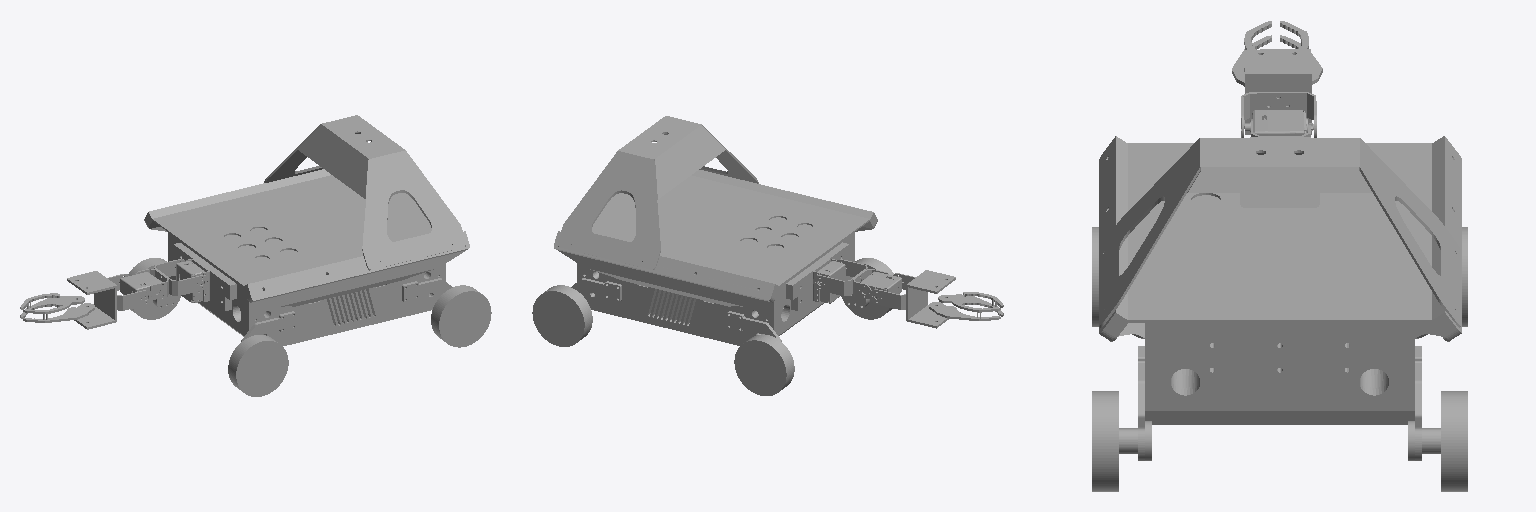
--- What the picture shows (computed from the rendered views, not written in the file) ---
3 views of the same robot in one strip: view 1: azimuth 30°, elevation 25°; view 2: azimuth 150°, elevation 25°; view 3: azimuth 270°, elevation 25° (orthographic).
Robot: v4 — 22 links, 21 joints (8 continuous, 13 fixed); root link base_link; default pose: every joint at zero.
Visible links, largest first — view 1: base_link, car_wheel_v2_1, car_wheel_v2__1__1, grap_base_v1_1, big_U_self_v2_1, grap2_v2_Mirror__1, car_wheel_v2__1___1__1, car_stand_v2__1___1___1__1, car_stand_v2_1, grap2_v2_1, big_U_self_v2__1__1, new_motor_v2__1__1 (+1 smaller); view 2: base_link, car_wheel_v2__1__2, car_wheel_v2__1___1__1, grap_base_v1_1, big_U_self_v2_1, grap2_v2_1, car_wheel_v2_1, car_stand_v2__1___1__1, car_stand_v2__1__1, big_U_self_v2__1__1, grap2_v2_Mirror__1, new_motor_v2__1__1 (+1 smaller); view 3: base_link, car_wheel_v2__1__1, car_wheel_v2__1__2, grap_base_v1_1, big_U_self_v2__1__1, new_motor_v2__1__1, car_stand_v2_1, car_stand_v2__1__1, grap2_v2_Mirror__1, car_wheel_v2_1, grap2_v2_1, car_wheel_v2__1___1__1.
Link boxes in pixels (bbox=[...]): base_link: bbox=[144, 115, 469, 345]; car_wheel_v2_1: bbox=[228, 335, 288, 396]; car_wheel_v2__1__1: bbox=[431, 285, 491, 347]; grap_base_v1_1: bbox=[67, 271, 116, 329]; big_U_self_v2_1: bbox=[154, 259, 208, 295]; grap2_v2_Mirror__1: bbox=[23, 301, 94, 322]; car_wheel_v2__1___1__1: bbox=[128, 258, 180, 319]; car_stand_v2__1___1___1__1: bbox=[241, 311, 295, 341]; car_stand_v2_1: bbox=[402, 278, 452, 301]; grap2_v2_1: bbox=[20, 293, 84, 318]; big_U_self_v2__1__1: bbox=[108, 274, 152, 310]; new_motor_v2__1__1: bbox=[120, 272, 162, 299]; base_link: bbox=[554, 116, 877, 345]; car_wheel_v2__1__2: bbox=[532, 285, 592, 346]; car_wheel_v2__1___1__1: bbox=[734, 334, 794, 395]; grap_base_v1_1: bbox=[906, 270, 955, 328]; big_U_self_v2_1: bbox=[813, 259, 867, 295]; grap2_v2_1: bbox=[929, 300, 1000, 320]; car_wheel_v2_1: bbox=[841, 258, 893, 319]; car_stand_v2__1___1__1: bbox=[727, 311, 781, 341]; car_stand_v2__1__1: bbox=[571, 278, 621, 301]; big_U_self_v2__1__1: bbox=[870, 273, 915, 309]; grap2_v2_Mirror__1: bbox=[938, 292, 1003, 316]; new_motor_v2__1__1: bbox=[860, 271, 901, 299]; base_link: bbox=[1099, 136, 1461, 424]; car_wheel_v2__1__1: bbox=[1092, 391, 1137, 491]; car_wheel_v2__1__2: bbox=[1422, 391, 1467, 491]; grap_base_v1_1: bbox=[1244, 49, 1311, 134]; big_U_self_v2__1__1: bbox=[1241, 92, 1316, 137]; new_motor_v2__1__1: bbox=[1245, 110, 1313, 135]; car_stand_v2_1: bbox=[1138, 346, 1144, 460]; car_stand_v2__1__1: bbox=[1415, 346, 1421, 460]; grap2_v2_Mirror__1: bbox=[1232, 21, 1271, 86]; car_wheel_v2_1: bbox=[1092, 227, 1098, 326]; grap2_v2_1: bbox=[1280, 21, 1322, 84]; car_wheel_v2__1___1__1: bbox=[1462, 227, 1467, 326].
Bounding box of the posed robot: 0.5881 × 0.2792 × 0.2434 m (x, y, z).
22 mesh visuals loaded from 22 distinct referenced files (22 binary STL).

URDF robot description (v4):
<?xml version="1.0" ?>
<!--===================================================================================-->
<!-- Autogenerated from v4.xacro -->
<!-- EDITING THIS FILE BY HAND IS NOT RECOMMENDED -->
<!--===================================================================================-->
<robot name="v4" xmlns:xacro="http://www.ros.org/wiki/xacro">
  <material name="silver">
    <color rgba="0.700 0.700 0.700 1.000"/>
  </material>
  <transmission name="Revolute 19_tran">
    <type>transmission_interface/SimpleTransmission</type>
    <joint name="Revolute 19">
      <hardwareInterface>hardware_interface/EffortJointInterface</hardwareInterface>
    </joint>
    <actuator name="Revolute 19_actr">
      <hardwareInterface>hardware_interface/EffortJointInterface</hardwareInterface>
      <mechanicalReduction>1</mechanicalReduction>
    </actuator>
  </transmission>
  <transmission name="Revolute 20_tran">
    <type>transmission_interface/SimpleTransmission</type>
    <joint name="Revolute 20">
      <hardwareInterface>hardware_interface/EffortJointInterface</hardwareInterface>
    </joint>
    <actuator name="Revolute 20_actr">
      <hardwareInterface>hardware_interface/EffortJointInterface</hardwareInterface>
      <mechanicalReduction>1</mechanicalReduction>
    </actuator>
  </transmission>
  <transmission name="Revolute 21_tran">
    <type>transmission_interface/SimpleTransmission</type>
    <joint name="Revolute 21">
      <hardwareInterface>hardware_interface/EffortJointInterface</hardwareInterface>
    </joint>
    <actuator name="Revolute 21_actr">
      <hardwareInterface>hardware_interface/EffortJointInterface</hardwareInterface>
      <mechanicalReduction>1</mechanicalReduction>
    </actuator>
  </transmission>
  <transmission name="Revolute 24_tran">
    <type>transmission_interface/SimpleTransmission</type>
    <joint name="Revolute 24">
      <hardwareInterface>hardware_interface/EffortJointInterface</hardwareInterface>
    </joint>
    <actuator name="Revolute 24_actr">
      <hardwareInterface>hardware_interface/EffortJointInterface</hardwareInterface>
      <mechanicalReduction>1</mechanicalReduction>
    </actuator>
  </transmission>
  <transmission name="Revolute 27_tran">
    <type>transmission_interface/SimpleTransmission</type>
    <joint name="Revolute 27">
      <hardwareInterface>hardware_interface/EffortJointInterface</hardwareInterface>
    </joint>
    <actuator name="Revolute 27_actr">
      <hardwareInterface>hardware_interface/EffortJointInterface</hardwareInterface>
      <mechanicalReduction>1</mechanicalReduction>
    </actuator>
  </transmission>
  <transmission name="Revolute 30_tran">
    <type>transmission_interface/SimpleTransmission</type>
    <joint name="Revolute 30">
      <hardwareInterface>hardware_interface/EffortJointInterface</hardwareInterface>
    </joint>
    <actuator name="Revolute 30_actr">
      <hardwareInterface>hardware_interface/EffortJointInterface</hardwareInterface>
      <mechanicalReduction>1</mechanicalReduction>
    </actuator>
  </transmission>
  <transmission name="Revolute 36_tran">
    <type>transmission_interface/SimpleTransmission</type>
    <joint name="Revolute 36">
      <hardwareInterface>hardware_interface/EffortJointInterface</hardwareInterface>
    </joint>
    <actuator name="Revolute 36_actr">
      <hardwareInterface>hardware_interface/EffortJointInterface</hardwareInterface>
      <mechanicalReduction>1</mechanicalReduction>
    </actuator>
  </transmission>
  <transmission name="Revolute 37_tran">
    <type>transmission_interface/SimpleTransmission</type>
    <joint name="Revolute 37">
      <hardwareInterface>hardware_interface/EffortJointInterface</hardwareInterface>
    </joint>
    <actuator name="Revolute 37_actr">
      <hardwareInterface>hardware_interface/EffortJointInterface</hardwareInterface>
      <mechanicalReduction>1</mechanicalReduction>
    </actuator>
  </transmission>
  <gazebo>
    <plugin filename="libgazebo_ros_control.so" name="control"/>
  </gazebo>
  <gazebo reference="base_link">
    <material>Gazebo/Silver</material>
    <mu1>0.2</mu1>
    <mu2>0.2</mu2>
    <selfCollide>true</selfCollide>
    <gravity>true</gravity>
  </gazebo>
  <gazebo reference="car_stand_v2_1">
    <material>Gazebo/Silver</material>
    <mu1>0.2</mu1>
    <mu2>0.2</mu2>
    <selfCollide>true</selfCollide>
  </gazebo>
  <gazebo reference="car_stand_v2__1__1">
    <material>Gazebo/Silver</material>
    <mu1>0.2</mu1>
    <mu2>0.2</mu2>
    <selfCollide>true</selfCollide>
  </gazebo>
  <gazebo reference="car_stand_v2__1___1___1__1">
    <material>Gazebo/Silver</material>
    <mu1>0.2</mu1>
    <mu2>0.2</mu2>
    <selfCollide>true</selfCollide>
  </gazebo>
  <gazebo reference="car_stand_2_v2_v1_1">
    <material>Gazebo/Silver</material>
    <mu1>0.2</mu1>
    <mu2>0.2</mu2>
    <selfCollide>true</selfCollide>
  </gazebo>
  <gazebo reference="car_stand_2_v2_v1__1__1">
    <material>Gazebo/Silver</material>
    <mu1>0.2</mu1>
    <mu2>0.2</mu2>
    <selfCollide>true</selfCollide>
  </gazebo>
  <gazebo reference="car_stand_2_v2_v1_2">
    <material>Gazebo/Silver</material>
    <mu1>0.2</mu1>
    <mu2>0.2</mu2>
    <selfCollide>true</selfCollide>
  </gazebo>
  <gazebo reference="car_wheel_v2_1">
    <material>Gazebo/Silver</material>
    <mu1>0.2</mu1>
    <mu2>0.2</mu2>
    <selfCollide>true</selfCollide>
  </gazebo>
  <gazebo reference="car_wheel_v2__1__1">
    <material>Gazebo/Silver</material>
    <mu1>0.2</mu1>
    <mu2>0.2</mu2>
    <selfCollide>true</selfCollide>
  </gazebo>
  <gazebo reference="car_wheel_v2__1__2">
    <material>Gazebo/Silver</material>
    <mu1>0.2</mu1>
    <mu2>0.2</mu2>
    <selfCollide>true</selfCollide>
  </gazebo>
  <gazebo reference="car_stand_v2__1___1__1">
    <material>Gazebo/Silver</material>
    <mu1>0.2</mu1>
    <mu2>0.2</mu2>
    <selfCollide>true</selfCollide>
  </gazebo>
  <gazebo reference="car_stand_2_v2_v1_4">
    <material>Gazebo/Silver</material>
    <mu1>0.2</mu1>
    <mu2>0.2</mu2>
    <selfCollide>true</selfCollide>
  </gazebo>
  <gazebo reference="car_wheel_v2__1___1__1">
    <material>Gazebo/Silver</material>
    <mu1>0.2</mu1>
    <mu2>0.2</mu2>
    <selfCollide>true</selfCollide>
  </gazebo>
  <gazebo reference="Side_U_Bracket_Component1_v2__1__1">
    <material>Gazebo/Silver</material>
    <mu1>0.2</mu1>
    <mu2>0.2</mu2>
    <selfCollide>true</selfCollide>
  </gazebo>
  <gazebo reference="new_motor_v2_1">
    <material>Gazebo/Silver</material>
    <mu1>0.2</mu1>
    <mu2>0.2</mu2>
    <selfCollide>true</selfCollide>
  </gazebo>
  <gazebo reference="big_U_self_v2_1">
    <material>Gazebo/Silver</material>
    <mu1>0.2</mu1>
    <mu2>0.2</mu2>
    <selfCollide>true</selfCollide>
  </gazebo>
  <gazebo reference="small_U_self_v3_v2_1">
    <material>Gazebo/Silver</material>
    <mu1>0.2</mu1>
    <mu2>0.2</mu2>
    <selfCollide>true</selfCollide>
  </gazebo>
  <gazebo reference="new_motor_v2__1__1">
    <material>Gazebo/Silver</material>
    <mu1>0.2</mu1>
    <mu2>0.2</mu2>
    <selfCollide>true</selfCollide>
  </gazebo>
  <gazebo reference="big_U_self_v2__1__1">
    <material>Gazebo/Silver</material>
    <mu1>0.2</mu1>
    <mu2>0.2</mu2>
    <selfCollide>true</selfCollide>
  </gazebo>
  <gazebo reference="grap_base_v1_1">
    <material>Gazebo/Silver</material>
    <mu1>0.2</mu1>
    <mu2>0.2</mu2>
    <selfCollide>true</selfCollide>
  </gazebo>
  <gazebo reference="grap2_v2_1">
    <material>Gazebo/Silver</material>
    <mu1>0.2</mu1>
    <mu2>0.2</mu2>
    <selfCollide>true</selfCollide>
  </gazebo>
  <gazebo reference="grap2_v2_Mirror__1">
    <material>Gazebo/Silver</material>
    <mu1>0.2</mu1>
    <mu2>0.2</mu2>
    <selfCollide>true</selfCollide>
  </gazebo>
  <link name="base_link">
    <inertial>
      <origin rpy="0 0 0" xyz="-0.03490559353136172 -0.0012908226787900414 0.05486728773240156"/>
      <mass value="40.856985871889826"/>
      <inertia ixx="0.201326" ixy="4.1e-05" ixz="-0.004755" iyy="0.334677" iyz="-0.00022" izz="0.444812"/>
    </inertial>
    <visual>
      <origin rpy="0 0 0" xyz="0 0 0"/>
      <geometry>
        <mesh filename="package://v4_description/meshes/base_link.stl" scale="0.001 0.001 0.001"/>
      </geometry>
      <material name="silver"/>
    </visual>
    <collision>
      <origin rpy="0 0 0" xyz="0 0 0"/>
      <geometry>
        <mesh filename="package://v4_description/meshes/base_link.stl" scale="0.001 0.001 0.001"/>
      </geometry>
    </collision>
  </link>
  <link name="car_stand_v2_1">
    <inertial>
      <origin rpy="0 0 0" xyz="0.03988993252380594 -0.0025004360304179962 -0.01795344297744809"/>
      <mass value="0.06574803361092448"/>
      <inertia ixx="1.6e-05" ixy="0.0" ixz="1.6e-05" iyy="5.4e-05" iyz="0.0" izz="3.7e-05"/>
    </inertial>
    <visual>
      <origin rpy="0 0 0" xyz="-0.044648 0.101416 -0.040924"/>
      <geometry>
        <mesh filename="package://v4_description/meshes/car_stand_v2_1.stl" scale="0.001 0.001 0.001"/>
      </geometry>
      <material name="silver"/>
    </visual>
    <collision>
      <origin rpy="0 0 0" xyz="-0.044648 0.101416 -0.040924"/>
      <geometry>
        <mesh filename="package://v4_description/meshes/car_stand_v2_1.stl" scale="0.001 0.001 0.001"/>
      </geometry>
    </collision>
  </link>
  <link name="car_stand_v2__1__1">
    <inertial>
      <origin rpy="0 0 0" xyz="0.03988993252381052 0.00249956396958205 -0.017953442977448077"/>
      <mass value="0.06574803361092448"/>
      <inertia ixx="1.6e-05" ixy="0.0" ixz="1.6e-05" iyy="5.4e-05" iyz="0.0" izz="3.7e-05"/>
    </inertial>
    <visual>
      <origin rpy="0 0 0" xyz="-0.044648 -0.098584 -0.040924"/>
      <geometry>
        <mesh filename="package://v4_description/meshes/car_stand_v2__1__1.stl" scale="0.001 0.001 0.001"/>
      </geometry>
      <material name="silver"/>
    </visual>
    <collision>
      <origin rpy="0 0 0" xyz="-0.044648 -0.098584 -0.040924"/>
      <geometry>
        <mesh filename="package://v4_description/meshes/car_stand_v2__1__1.stl" scale="0.001 0.001 0.001"/>
      </geometry>
    </collision>
  </link>
  <link name="car_stand_v2__1___1___1__1">
    <inertial>
      <origin rpy="0 0 0" xyz="-0.03989044739074814 -0.002500436030408615 -0.017953442977451526"/>
      <mass value="0.06574803361092448"/>
      <inertia ixx="1.6e-05" ixy="0.0" ixz="-1.6e-05" iyy="5.4e-05" iyz="0.0" izz="3.7e-05"/>
    </inertial>
    <visual>
      <origin rpy="0 0 0" xyz="0.11402 0.101416 -0.040924"/>
      <geometry>
        <mesh filename="package://v4_description/meshes/car_stand_v2__1___1___1__1.stl" scale="0.001 0.001 0.001"/>
      </geometry>
      <material name="silver"/>
    </visual>
    <collision>
      <origin rpy="0 0 0" xyz="0.11402 0.101416 -0.040924"/>
      <geometry>
        <mesh filename="package://v4_description/meshes/car_stand_v2__1___1___1__1.stl" scale="0.001 0.001 0.001"/>
      </geometry>
    </collision>
  </link>
  <link name="car_stand_2_v2_v1_1">
    <inertial>
      <origin rpy="0 0 0" xyz="0.008838668542350672 0.0024995639695819527 -0.008839293755308316"/>
      <mass value="0.025649195499023388"/>
      <inertia ixx="1e-06" ixy="0.0" ixz="0.0" iyy="3e-06" iyz="0.0" izz="1e-06"/>
    </inertial>
    <visual>
      <origin rpy="0 0 0" xyz="-0.100582 0.101416 -0.005915"/>
      <geometry>
        <mesh filename="package://v4_description/meshes/car_stand_2_v2_v1_1.stl" scale="0.001 0.001 0.001"/>
      </geometry>
      <material name="silver"/>
    </visual>
    <collision>
      <origin rpy="0 0 0" xyz="-0.100582 0.101416 -0.005915"/>
      <geometry>
        <mesh filename="package://v4_description/meshes/car_stand_2_v2_v1_1.stl" scale="0.001 0.001 0.001"/>
      </geometry>
    </collision>
  </link>
  <link name="car_stand_2_v2_v1__1__1">
    <inertial>
      <origin rpy="0 0 0" xyz="-0.008839331457644747 -0.002500436030418024 -0.008839293755307998"/>
      <mass value="0.025649195499023388"/>
      <inertia ixx="1e-06" ixy="0.0" ixz="0.0" iyy="3e-06" iyz="0.0" izz="1e-06"/>
    </inertial>
    <visual>
      <origin rpy="0 0 0" xyz="-0.11826 -0.098584 -0.005915"/>
      <geometry>
        <mesh filename="package://v4_description/meshes/car_stand_2_v2_v1__1__1.stl" scale="0.001 0.001 0.001"/>
      </geometry>
      <material name="silver"/>
    </visual>
    <collision>
      <origin rpy="0 0 0" xyz="-0.11826 -0.098584 -0.005915"/>
      <geometry>
        <mesh filename="package://v4_description/meshes/car_stand_2_v2_v1__1__1.stl" scale="0.001 0.001 0.001"/>
      </geometry>
    </collision>
  </link>
  <link name="car_stand_2_v2_v1_2">
    <inertial>
      <origin rpy="0 0 0" xyz="0.0088388165906792 0.002499563969585103 -0.008839293755313506"/>
      <mass value="0.025649195499023388"/>
      <inertia ixx="1e-06" ixy="-0.0" ixz="0.0" iyy="3e-06" iyz="0.0" izz="1e-06"/>
    </inertial>
    <visual>
      <origin rpy="0 0 0" xyz="0.187632 0.101416 -0.005915"/>
      <geometry>
        <mesh filename="package://v4_description/meshes/car_stand_2_v2_v1_2.stl" scale="0.001 0.001 0.001"/>
      </geometry>
      <material name="silver"/>
    </visual>
    <collision>
      <origin rpy="0 0 0" xyz="0.187632 0.101416 -0.005915"/>
      <geometry>
        <mesh filename="package://v4_description/meshes/car_stand_2_v2_v1_2.stl" scale="0.001 0.001 0.001"/>
      </geometry>
    </collision>
  </link>
  <link name="car_wheel_v2_1">
    <inertial>
      <origin rpy="0 0 0" xyz="-1.834093510677537e-07 -0.02381625276238626 -2.9375528741654514e-07"/>
      <mass value="0.7168827451003499"/>
      <inertia ixx="0.000271" ixy="-0.0" ixz="-0.0" iyy="0.000476" iyz="0.0" izz="0.000271"/>
    </inertial>
    <visual>
      <origin rpy="0 0 0" xyz="0.178793 0.106416 0.002924"/>
      <geometry>
        <mesh filename="package://v4_description/meshes/car_wheel_v2_1.stl" scale="0.001 0.001 0.001"/>
      </geometry>
      <material name="silver"/>
    </visual>
    <collision>
      <origin rpy="0 0 0" xyz="0.178793 0.106416 0.002924"/>
      <geometry>
        <mesh filename="package://v4_description/meshes/car_wheel_v2_1.stl" scale="0.001 0.001 0.001"/>
      </geometry>
    </collision>
  </link>
  <link name="car_wheel_v2__1__1">
    <inertial>
      <origin rpy="0 0 0" xyz="-3.314576812324388e-07 -0.02381625276238937 -2.9375528393148567e-07"/>
      <mass value="0.7168827451003499"/>
      <inertia ixx="0.000271" ixy="-0.0" ixz="-0.0" iyy="0.000476" iyz="0.0" izz="0.000271"/>
    </inertial>
    <visual>
      <origin rpy="0 0 0" xyz="-0.109421 0.106416 0.002924"/>
      <geometry>
        <mesh filename="package://v4_description/meshes/car_wheel_v2__1__1.stl" scale="0.001 0.001 0.001"/>
      </geometry>
      <material name="silver"/>
    </visual>
    <collision>
      <origin rpy="0 0 0" xyz="-0.109421 0.106416 0.002924"/>
      <geometry>
        <mesh filename="package://v4_description/meshes/car_wheel_v2__1__1.stl" scale="0.001 0.001 0.001"/>
      </geometry>
    </collision>
  </link>
  <link name="car_wheel_v2__1__2">
    <inertial>
      <origin rpy="0 0 0" xyz="-3.3145767672215776e-07 0.0238153807015533 -2.9375533295607215e-07"/>
      <mass value="0.7168827451003499"/>
      <inertia ixx="0.000271" ixy="0.0" ixz="0.0" iyy="0.000476" iyz="0.0" izz="0.000271"/>
    </inertial>
    <visual>
      <origin rpy="0 0 0" xyz="-0.109421 -0.103584 0.002924"/>
      <geometry>
        <mesh filename="package://v4_description/meshes/car_wheel_v2__1__2.stl" scale="0.001 0.001 0.001"/>
      </geometry>
      <material name="silver"/>
    </visual>
    <collision>
      <origin rpy="0 0 0" xyz="-0.109421 -0.103584 0.002924"/>
      <geometry>
        <mesh filename="package://v4_description/meshes/car_wheel_v2__1__2.stl" scale="0.001 0.001 0.001"/>
      </geometry>
    </collision>
  </link>
  <link name="car_stand_v2__1___1__1">
    <inertial>
      <origin rpy="0 0 0" xyz="-0.03989044739074339 0.0024995639695852695 -0.017953442977451568"/>
      <mass value="0.06574803361092448"/>
      <inertia ixx="1.6e-05" ixy="0.0" ixz="-1.6e-05" iyy="5.4e-05" iyz="-0.0" izz="3.7e-05"/>
    </inertial>
    <visual>
      <origin rpy="0 0 0" xyz="0.11402 -0.098584 -0.040924"/>
      <geometry>
        <mesh filename="package://v4_description/meshes/car_stand_v2__1___1__1.stl" scale="0.001 0.001 0.001"/>
      </geometry>
      <material name="silver"/>
    </visual>
    <collision>
      <origin rpy="0 0 0" xyz="0.11402 -0.098584 -0.040924"/>
      <geometry>
        <mesh filename="package://v4_description/meshes/car_stand_v2__1___1__1.stl" scale="0.001 0.001 0.001"/>
      </geometry>
    </collision>
  </link>
  <link name="car_stand_2_v2_v1_4">
    <inertial>
      <origin rpy="0 0 0" xyz="0.00883881659068353 -0.002500436030414721 -0.00883929375531351"/>
      <mass value="0.025649195499023388"/>
      <inertia ixx="1e-06" ixy="0.0" ixz="0.0" iyy="3e-06" iyz="0.0" izz="1e-06"/>
    </inertial>
    <visual>
      <origin rpy="0 0 0" xyz="0.187632 -0.098584 -0.005915"/>
      <geometry>
        <mesh filename="package://v4_description/meshes/car_stand_2_v2_v1_4.stl" scale="0.001 0.001 0.001"/>
      </geometry>
      <material name="silver"/>
    </visual>
    <collision>
      <origin rpy="0 0 0" xyz="0.187632 -0.098584 -0.005915"/>
      <geometry>
        <mesh filename="package://v4_description/meshes/car_stand_2_v2_v1_4.stl" scale="0.001 0.001 0.001"/>
      </geometry>
    </collision>
  </link>
  <link name="car_wheel_v2__1___1__1">
    <inertial>
      <origin rpy="0 0 0" xyz="-1.834093467378839e-07 0.02381538070155663 -2.937553364771271e-07"/>
      <mass value="0.7168827451003499"/>
      <inertia ixx="0.000271" ixy="0.0" ixz="0.0" iyy="0.000476" iyz="0.0" izz="0.000271"/>
    </inertial>
    <visual>
      <origin rpy="0 0 0" xyz="0.178793 -0.103584 0.002924"/>
      <geometry>
        <mesh filename="package://v4_description/meshes/car_wheel_v2__1___1__1.stl" scale="0.001 0.001 0.001"/>
      </geometry>
      <material name="silver"/>
    </visual>
    <collision>
      <origin rpy="0 0 0" xyz="0.178793 -0.103584 0.002924"/>
      <geometry>
        <mesh filename="package://v4_description/meshes/car_wheel_v2__1___1__1.stl" scale="0.001 0.001 0.001"/>
      </geometry>
    </collision>
  </link>
  <link name="Side_U_Bracket_Component1_v2__1__1">
    <inertial>
      <origin rpy="0 0 0" xyz="-0.002196396463554351 -4.360305858636289e-07 -8.453993113072267e-05"/>
      <mass value="0.02951040982880665"/>
      <inertia ixx="1.1e-05" ixy="0.0" ixz="-0.0" iyy="4e-06" iyz="-0.0" izz="7e-06"/>
    </inertial>
    <visual>
      <origin rpy="0 0 0" xyz="0.184696 0.001416 -0.063262"/>
      <geometry>
        <mesh filename="package://v4_description/meshes/Side_U_Bracket_Component1_v2__1__1.stl" scale="0.001 0.001 0.001"/>
      </geometry>
      <material name="silver"/>
    </visual>
    <collision>
      <origin rpy="0 0 0" xyz="0.184696 0.001416 -0.063262"/>
      <geometry>
        <mesh filename="package://v4_description/meshes/Side_U_Bracket_Component1_v2__1__1.stl" scale="0.001 0.001 0.001"/>
      </geometry>
    </collision>
  </link>
  <link name="new_motor_v2_1">
    <inertial>
      <origin rpy="0 0 0" xyz="-0.007452485743466214 -0.022427186385094992 0.017654066718774016"/>
      <mass value="0.20364393858439991"/>
      <inertia ixx="5.1e-05" ixy="-0.0" ixz="-0.0" iyy="3.5e-05" iyz="-0.0" izz="3e-05"/>
    </inertial>
    <visual>
      <origin rpy="0 0 0" xyz="0.192009 -0.018834 -0.045728"/>
      <geometry>
        <mesh filename="package://v4_description/meshes/new_motor_v2_1.stl" scale="0.001 0.001 0.001"/>
      </geometry>
      <material name="silver"/>
    </visual>
    <collision>
      <origin rpy="0 0 0" xyz="0.192009 -0.018834 -0.045728"/>
      <geometry>
        <mesh filename="package://v4_description/meshes/new_motor_v2_1.stl" scale="0.001 0.001 0.001"/>
      </geometry>
    </collision>
  </link>
  <link name="big_U_self_v2_1">
    <inertial>
      <origin rpy="0 0 0" xyz="-0.02423781962657942 -4.360255596357141e-07 -9.331276065296934e-06"/>
      <mass value="0.041847447766480916"/>
      <inertia ixx="2.4e-05" ixy="0.0" ixz="-0.0" iyy="1.1e-05" iyz="0.0" izz="3.2e-05"/>
    </inertial>
    <visual>
      <origin rpy="0 0 0" xyz="0.199519 0.000916 -0.073226"/>
      <geometry>
        <mesh filename="package://v4_description/meshes/big_U_self_v2_1.stl" scale="0.001 0.001 0.001"/>
      </geometry>
      <material name="silver"/>
    </visual>
    <collision>
      <origin rpy="0 0 0" xyz="0.199519 0.000916 -0.073226"/>
      <geometry>
        <mesh filename="package://v4_description/meshes/big_U_self_v2_1.stl" scale="0.001 0.001 0.001"/>
      </geometry>
    </collision>
  </link>
  <link name="small_U_self_v3_v2_1">
    <inertial>
      <origin rpy="0 0 0" xyz="-0.009287793098572444 -0.0005387943235771196 -3.591936350147429e-06"/>
      <mass value="0.025534175468152884"/>
      <inertia ixx="9e-06" ixy="-0.0" ixz="-0.0" iyy="3e-06" iyz="-0.0" izz="1e-05"/>
    </inertial>
    <visual>
      <origin rpy="0 0 0" xyz="0.239519 0.000916 -0.073211"/>
      <geometry>
        <mesh filename="package://v4_description/meshes/small_U_self_v3_v2_1.stl" scale="0.001 0.001 0.001"/>
      </geometry>
      <material name="silver"/>
    </visual>
    <collision>
      <origin rpy="0 0 0" xyz="0.239519 0.000916 -0.073211"/>
      <geometry>
        <mesh filename="package://v4_description/meshes/small_U_self_v3_v2_1.stl" scale="0.001 0.001 0.001"/>
      </geometry>
    </collision>
  </link>
  <link name="new_motor_v2__1__1">
    <inertial>
      <origin rpy="0 0 0" xyz="-0.01796902636035358 0.021971771959281163 -0.008360549860558564"/>
      <mass value="0.20364667946656756"/>
      <inertia ixx="3e-05" ixy="-0.0" ixz="-0.0" iyy="3.5e-05" iyz="-0.0" izz="5.1e-05"/>
    </inertial>
    <visual>
      <origin rpy="0 0 0" xyz="0.252022 0.021166 -0.080706"/>
      <geometry>
        <mesh filename="package://v4_description/meshes/new_motor_v2__1__1.stl" scale="0.001 0.001 0.001"/>
      </geometry>
      <material name="silver"/>
    </visual>
    <collision>
      <origin rpy="0 0 0" xyz="0.252022 0.021166 -0.080706"/>
      <geometry>
        <mesh filename="package://v4_description/meshes/new_motor_v2__1__1.stl" scale="0.001 0.001 0.001"/>
      </geometry>
    </collision>
  </link>
  <link name="big_U_self_v2__1__1">
    <inertial>
      <origin rpy="0 0 0" xyz="-0.024234621373399545 -0.0003468056978262182 -9.007546020775581e-06"/>
      <mass value="0.04184744776648061"/>
      <inertia ixx="2.4e-05" ixy="0.0" ixz="-0.0" iyy="1.1e-05" iyz="0.0" izz="3.2e-05"/>
    </inertial>
    <visual>
      <origin rpy="0 0 0" xyz="0.279796 0.002011 -0.072396"/>
      <geometry>
        <mesh filename="package://v4_description/meshes/big_U_self_v2__1__1.stl" scale="0.001 0.001 0.001"/>
      </geometry>
      <material name="silver"/>
    </visual>
    <collision>
      <origin rpy="0 0 0" xyz="0.279796 0.002011 -0.072396"/>
      <geometry>
        <mesh filename="package://v4_description/meshes/big_U_self_v2__1__1.stl" scale="0.001 0.001 0.001"/>
      </geometry>
    </collision>
  </link>
  <link name="grap_base_v1_1">
    <inertial>
      <origin rpy="0 0 0" xyz="-0.014566952255857912 -0.00020826804762141176 -5.219548716600686e-06"/>
      <mass value="0.15189124788812738"/>
      <inertia ixx="9.5e-05" ixy="0.0" ixz="0.0" iyy="9.3e-05" iyz="0.0" izz="6.1e-05"/>
    </inertial>
    <visual>
      <origin rpy="0 0 0" xyz="0.319792 0.002583 -0.072381"/>
      <geometry>
        <mesh filename="package://v4_description/meshes/grap_base_v1_1.stl" scale="0.001 0.001 0.001"/>
      </geometry>
      <material name="silver"/>
    </visual>
    <collision>
      <origin rpy="0 0 0" xyz="0.319792 0.002583 -0.072381"/>
      <geometry>
        <mesh filename="package://v4_description/meshes/grap_base_v1_1.stl" scale="0.001 0.001 0.001"/>
      </geometry>
    </collision>
  </link>
  <link name="grap2_v2_1">
    <inertial>
      <origin rpy="0 0 0" xyz="-0.03291400371766562 0.005117554961966184 0.0011004146243947382"/>
      <mass value="0.04062678364093081"/>
      <inertia ixx="3e-06" ixy="-0.0" ixz="2e-06" iyy="2.6e-05" iyz="0.0" izz="2.7e-05"/>
    </inertial>
    <visual>
      <origin rpy="0 0 0" xyz="0.355467 -0.009408 -0.072368"/>
      <geometry>
        <mesh filename="package://v4_description/meshes/grap2_v2_1.stl" scale="0.001 0.001 0.001"/>
      </geometry>
      <material name="silver"/>
    </visual>
    <collision>
      <origin rpy="0 0 0" xyz="0.355467 -0.009408 -0.072368"/>
      <geometry>
        <mesh filename="package://v4_description/meshes/grap2_v2_1.stl" scale="0.001 0.001 0.001"/>
      </geometry>
    </collision>
  </link>
  <link name="grap2_v2_Mirror__1">
    <inertial>
      <origin rpy="0 0 0" xyz="-0.032755044017192425 -0.006055892134894434 0.0011006057396234226"/>
      <mass value="0.04062678364093082"/>
      <inertia ixx="3e-06" ixy="-0.0" ixz="2e-06" iyy="2.6e-05" iyz="-0.0" izz="2.7e-05"/>
    </inertial>
    <visual>
      <origin rpy="0 0 0" xyz="0.355109 0.015589 -0.072368"/>
      <geometry>
        <mesh filename="package://v4_description/meshes/grap2_v2_Mirror__1.stl" scale="0.001 0.001 0.001"/>
      </geometry>
      <material name="silver"/>
    </visual>
    <collision>
      <origin rpy="0 0 0" xyz="0.355109 0.015589 -0.072368"/>
      <geometry>
        <mesh filename="package://v4_description/meshes/grap2_v2_Mirror__1.stl" scale="0.001 0.001 0.001"/>
      </geometry>
    </collision>
  </link>
  <joint name="Rigid 11" type="fixed">
    <origin rpy="0 0 0" xyz="0.044648 -0.101416 0.040924"/>
    <parent link="base_link"/>
    <child link="car_stand_v2_1"/>
  </joint>
  <joint name="Rigid 12" type="fixed">
    <origin rpy="0 0 0" xyz="0.044648 0.098584 0.040924"/>
    <parent link="base_link"/>
    <child link="car_stand_v2__1__1"/>
  </joint>
  <joint name="Rigid 14" type="fixed">
    <origin rpy="0 0 0" xyz="-0.11402 -0.101416 0.040924"/>
    <parent link="base_link"/>
    <child link="car_stand_v2__1___1___1__1"/>
  </joint>
  <joint name="Rigid 15" type="fixed">
    <origin rpy="0 0 0" xyz="0.055934 0.0 -0.035009"/>
    <parent link="car_stand_v2_1"/>
    <child link="car_stand_2_v2_v1_1"/>
  </joint>
  <joint name="Rigid 16" type="fixed">
    <origin rpy="0 0 0" xyz="0.073612 0.0 -0.035009"/>
    <parent link="car_stand_v2__1__1"/>
    <child link="car_stand_2_v2_v1__1__1"/>
  </joint>
  <joint name="Rigid 17" type="fixed">
    <origin rpy="0 0 0" xyz="-0.073612 0.0 -0.035009"/>
    <parent link="car_stand_v2__1___1___1__1"/>
    <child link="car_stand_2_v2_v1_2"/>
  </joint>
  <joint name="Revolute 19" type="continuous">
    <origin rpy="0 0 0" xyz="-0.064773 -0.005 -0.043848"/>
    <parent link="car_stand_v2__1___1___1__1"/>
    <child link="car_wheel_v2_1"/>
    <axis xyz="-0.0 -1.0 0.0"/>
  </joint>
  <joint name="Revolute 20" type="continuous">
    <origin rpy="0 0 0" xyz="0.064773 -0.005 -0.043848"/>
    <parent link="car_stand_v2_1"/>
    <child link="car_wheel_v2__1__1"/>
    <axis xyz="-0.0 -1.0 0.0"/>
  </joint>
  <joint name="Revolute 21" type="continuous">
    <origin rpy="0 0 0" xyz="0.064773 0.005 -0.043848"/>
    <parent link="car_stand_v2__1__1"/>
    <child link="car_wheel_v2__1__2"/>
    <axis xyz="-0.0 -1.0 0.0"/>
  </joint>
  <joint name="Rigid 22" type="fixed">
    <origin rpy="0 0 0" xyz="-0.11402 0.098584 0.040924"/>
    <parent link="base_link"/>
    <child link="car_stand_v2__1___1__1"/>
  </joint>
  <joint name="Rigid 23" type="fixed">
    <origin rpy="0 0 0" xyz="-0.073612 0.0 -0.035009"/>
    <parent link="car_stand_v2__1___1__1"/>
    <child link="car_stand_2_v2_v1_4"/>
  </joint>
  <joint name="Revolute 24" type="continuous">
    <origin rpy="0 -1.57079632679 0" xyz="-0.064773 0.005 -0.043848"/>
    <parent link="car_stand_v2__1___1__1"/>
    <child link="car_wheel_v2__1___1__1"/>
    <axis xyz="-0.0 -1.0 0.0"/>
  </joint>
  <joint name="Rigid 25" type="fixed">
    <origin rpy="0 0 0" xyz="-0.184696 -0.001416 0.063262"/>
    <parent link="base_link"/>
    <child link="Side_U_Bracket_Component1_v2__1__1"/>
  </joint>
  <joint name="Rigid 26" type="fixed">
    <origin rpy="0 0 0" xyz="-0.007313 0.02025 -0.017534"/>
    <parent link="Side_U_Bracket_Component1_v2__1__1"/>
    <child link="new_motor_v2_1"/>
  </joint>
  <joint name="Revolute 27" type="continuous">
    <origin rpy="0 0 0" xyz="-0.00751 -0.01975 0.027498"/>
    <parent link="new_motor_v2_1"/>
    <child link="big_U_self_v2_1"/>
    <axis xyz="-0.0 -1.0 0.0"/>
  </joint>
  <joint name="Rigid 28" type="fixed">
    <origin rpy="0 0 0" xyz="-0.04 0.0 -1.5e-05"/>
    <parent link="big_U_self_v2_1"/>
    <child link="small_U_self_v3_v2_1"/>
  </joint>
  <joint name="Rigid 29" type="fixed">
    <origin rpy="0 0 0" xyz="-0.012503 -0.02025 0.007495"/>
    <parent link="small_U_self_v3_v2_1"/>
    <child link="new_motor_v2__1__1"/>
  </joint>
  <joint name="Revolute 30" type="continuous">
    <origin rpy="0 0 0" xyz="-0.027774 0.019155 -0.00831"/>
    <parent link="new_motor_v2__1__1"/>
    <child link="big_U_self_v2__1__1"/>
    <axis xyz="0.014291 -0.999898 5e-06"/>
  </joint>
  <joint name="Rigid 31" type="fixed">
    <origin rpy="0 0 0" xyz="-0.039996 -0.000572 -1.5e-05"/>
    <parent link="big_U_self_v2__1__1"/>
    <child link="grap_base_v1_1"/>
  </joint>
  <joint name="Revolute 36" type="continuous">
    <origin rpy="0 0 0" xyz="-0.035675 0.011991 -1.3e-05"/>
    <parent link="grap_base_v1_1"/>
    <child link="grap2_v2_1"/>
    <axis xyz="-0.00037 0.0 1.0"/>
  </joint>
  <joint name="Revolute 37" type="continuous">
    <origin rpy="0 0 0" xyz="-0.035317 -0.013006 -1.3e-05"/>
    <parent link="grap_base_v1_1"/>
    <child link="grap2_v2_Mirror__1"/>
    <axis xyz="-0.00037 0.0 1.0"/>
  </joint>
</robot>
